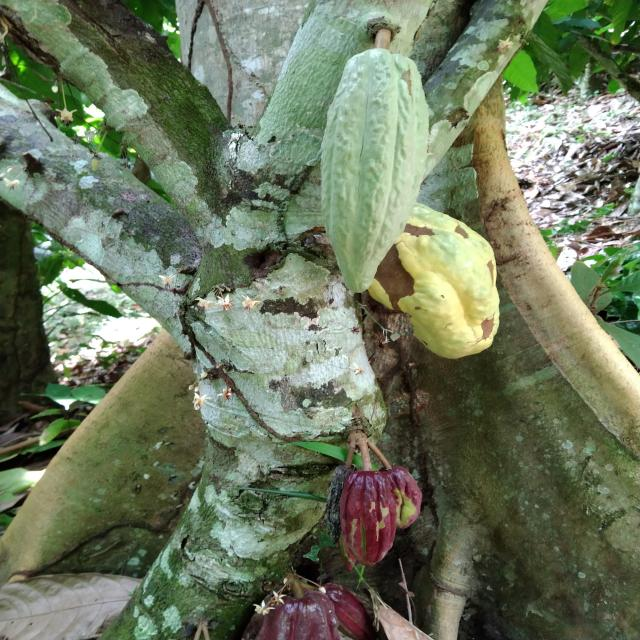Sana: (326, 46, 427, 293), (368, 204, 506, 358), (336, 469, 402, 569), (252, 590, 332, 640), (382, 469, 427, 524)
